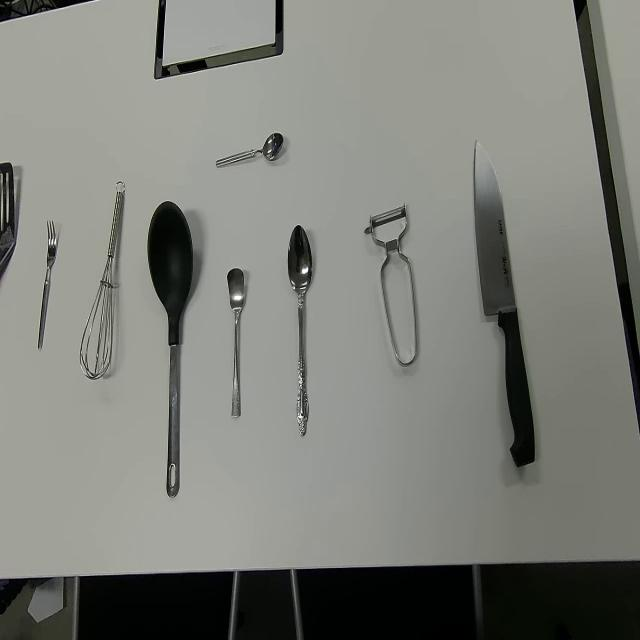Desert-Spoon: (288, 224, 314, 439)
Dinner-Fork: (37, 218, 58, 353)
Kitchen-Knife: (473, 138, 536, 469)
Peeler: (363, 200, 417, 367)
Serving-Spoon: (146, 198, 194, 502), (0, 158, 16, 289)
Tea-Spoon: (226, 266, 245, 419), (214, 130, 284, 170)
Whisk: (78, 180, 126, 381)
